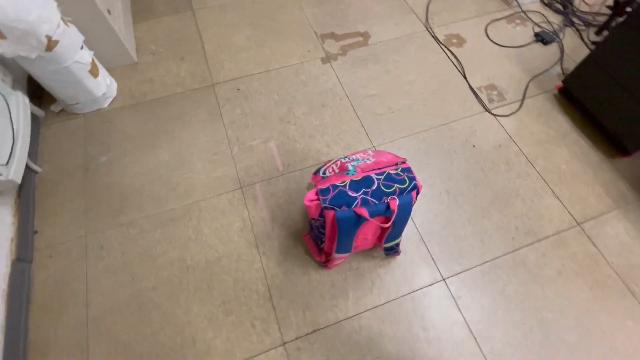Backpack: (293, 144, 425, 274)
